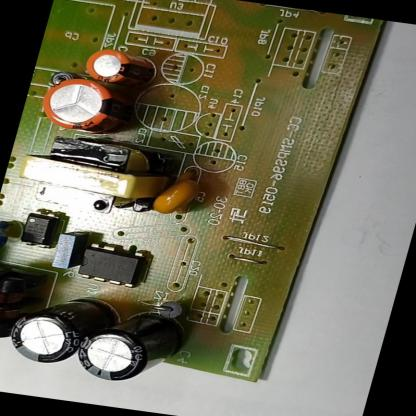Cap1: (36, 75, 138, 136)
Cap2: (81, 48, 157, 87)
Cap3: (5, 286, 103, 371)
Cap4: (72, 305, 186, 388)
MOSFET: (74, 241, 148, 287)
Mov: (0, 218, 18, 259)
Transformer: (8, 128, 175, 220), (0, 265, 26, 351)
